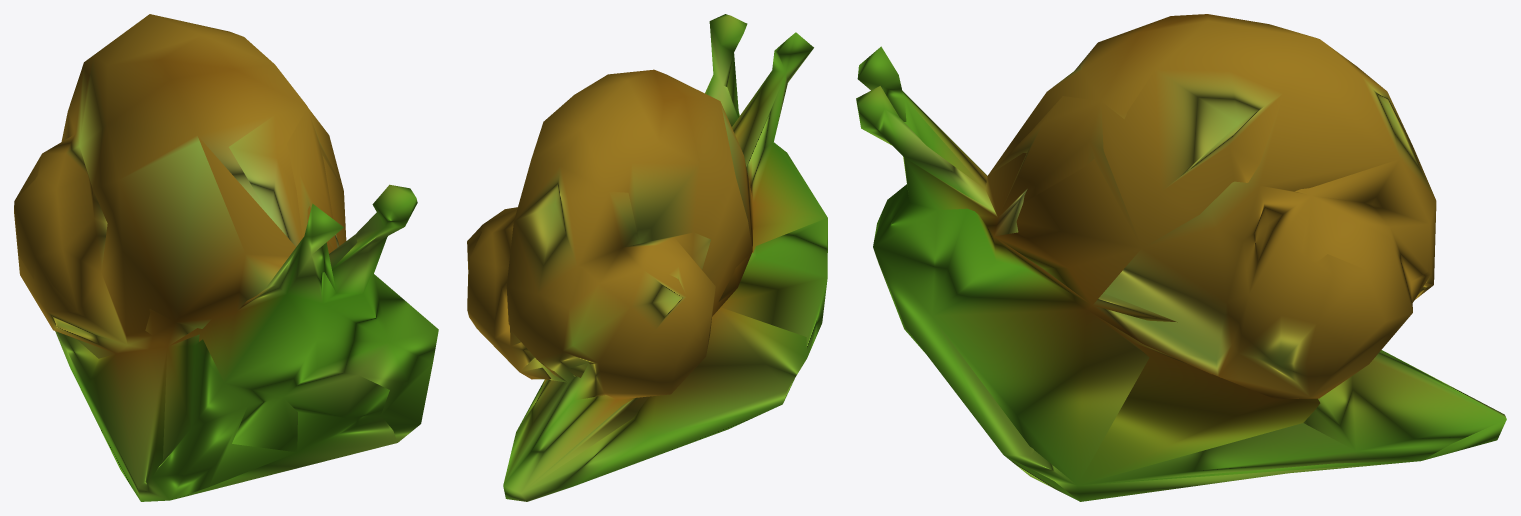
File: gen3d-garden-snail-lod1.glb
The picture shows the model from 3 angles, left to right: view 1: azimuth 30°, elevation 25°; view 2: azimuth 150°, elevation 25°; view 3: azimuth 270°, elevation 25°; orthographic projection. The views are drawn at different scales.
Visible parts, largest first — view 1: part_0; view 2: part_0; view 3: part_0.
Part boxes in pixels (<box>): part_0: <box>14,14,438,501</box>; part_0: <box>467,14,827,501</box>; part_0: <box>856,14,1506,501</box>.
Size of the model in its own units: 0.7032 by 0.9942 by 1.39.
